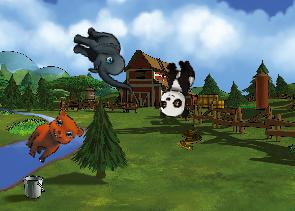bear: (20, 103, 88, 173)
elephant: (64, 24, 144, 94)
panda: (157, 57, 196, 120)
